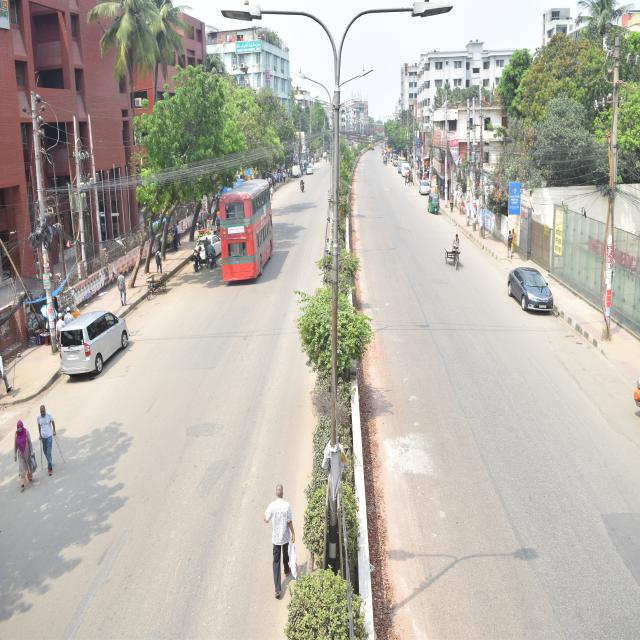bus: (218, 172, 274, 287)
car: (57, 309, 131, 380), (506, 264, 557, 317), (194, 230, 222, 264), (418, 177, 432, 197)
